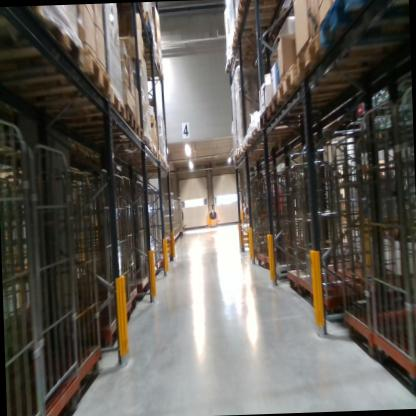pallet: (295, 17, 405, 77), (0, 8, 85, 81), (274, 51, 378, 106), (15, 45, 113, 99), (318, 0, 409, 50), (28, 87, 126, 127), (60, 100, 139, 137), (256, 101, 350, 131), (268, 90, 350, 119), (71, 120, 145, 144), (241, 131, 302, 153), (230, 14, 285, 37), (237, 0, 284, 24), (229, 33, 285, 53), (251, 122, 302, 142), (121, 156, 164, 170), (111, 144, 153, 157), (141, 65, 167, 83), (127, 149, 160, 163), (127, 3, 147, 25), (139, 54, 164, 71), (148, 117, 160, 128), (163, 160, 168, 170)
pallet_truck: (202, 201, 220, 231), (239, 192, 257, 222)
